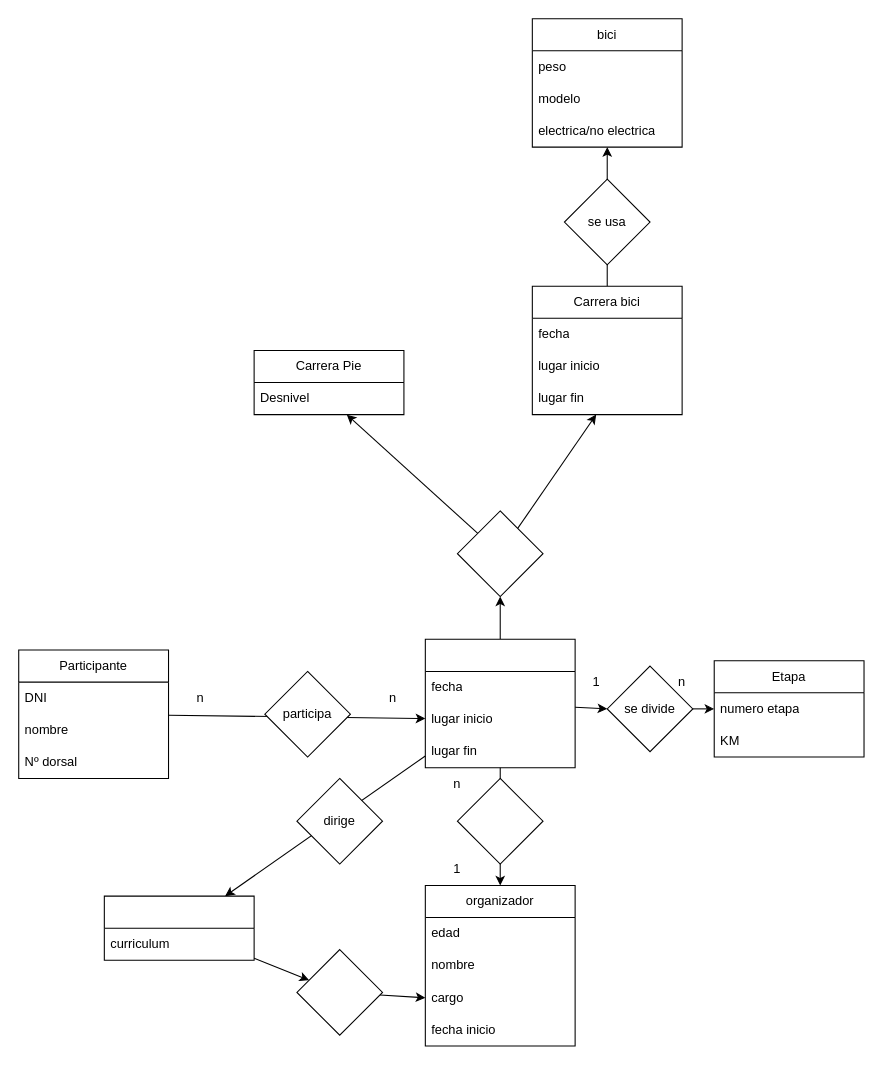
Image size: 883x1065. Some labels were removed from this diagram. The box of each missing label's shape, as (x1, y1, x2, y2) in pixels:
asiste: (456, 777, 543, 864)
Carrera: (424, 638, 575, 768)
Direcctor: (103, 895, 254, 960)
es un: (296, 949, 383, 1035)
puede ser: (456, 510, 543, 597)
